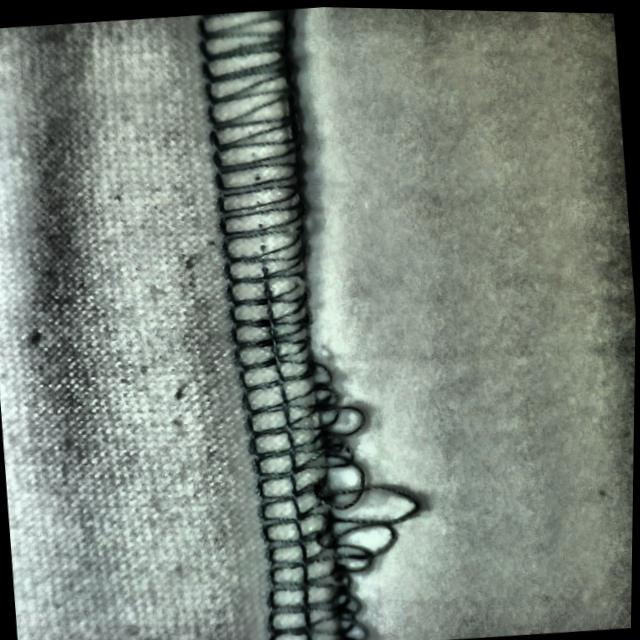Stitch: (233, 349, 438, 640)
